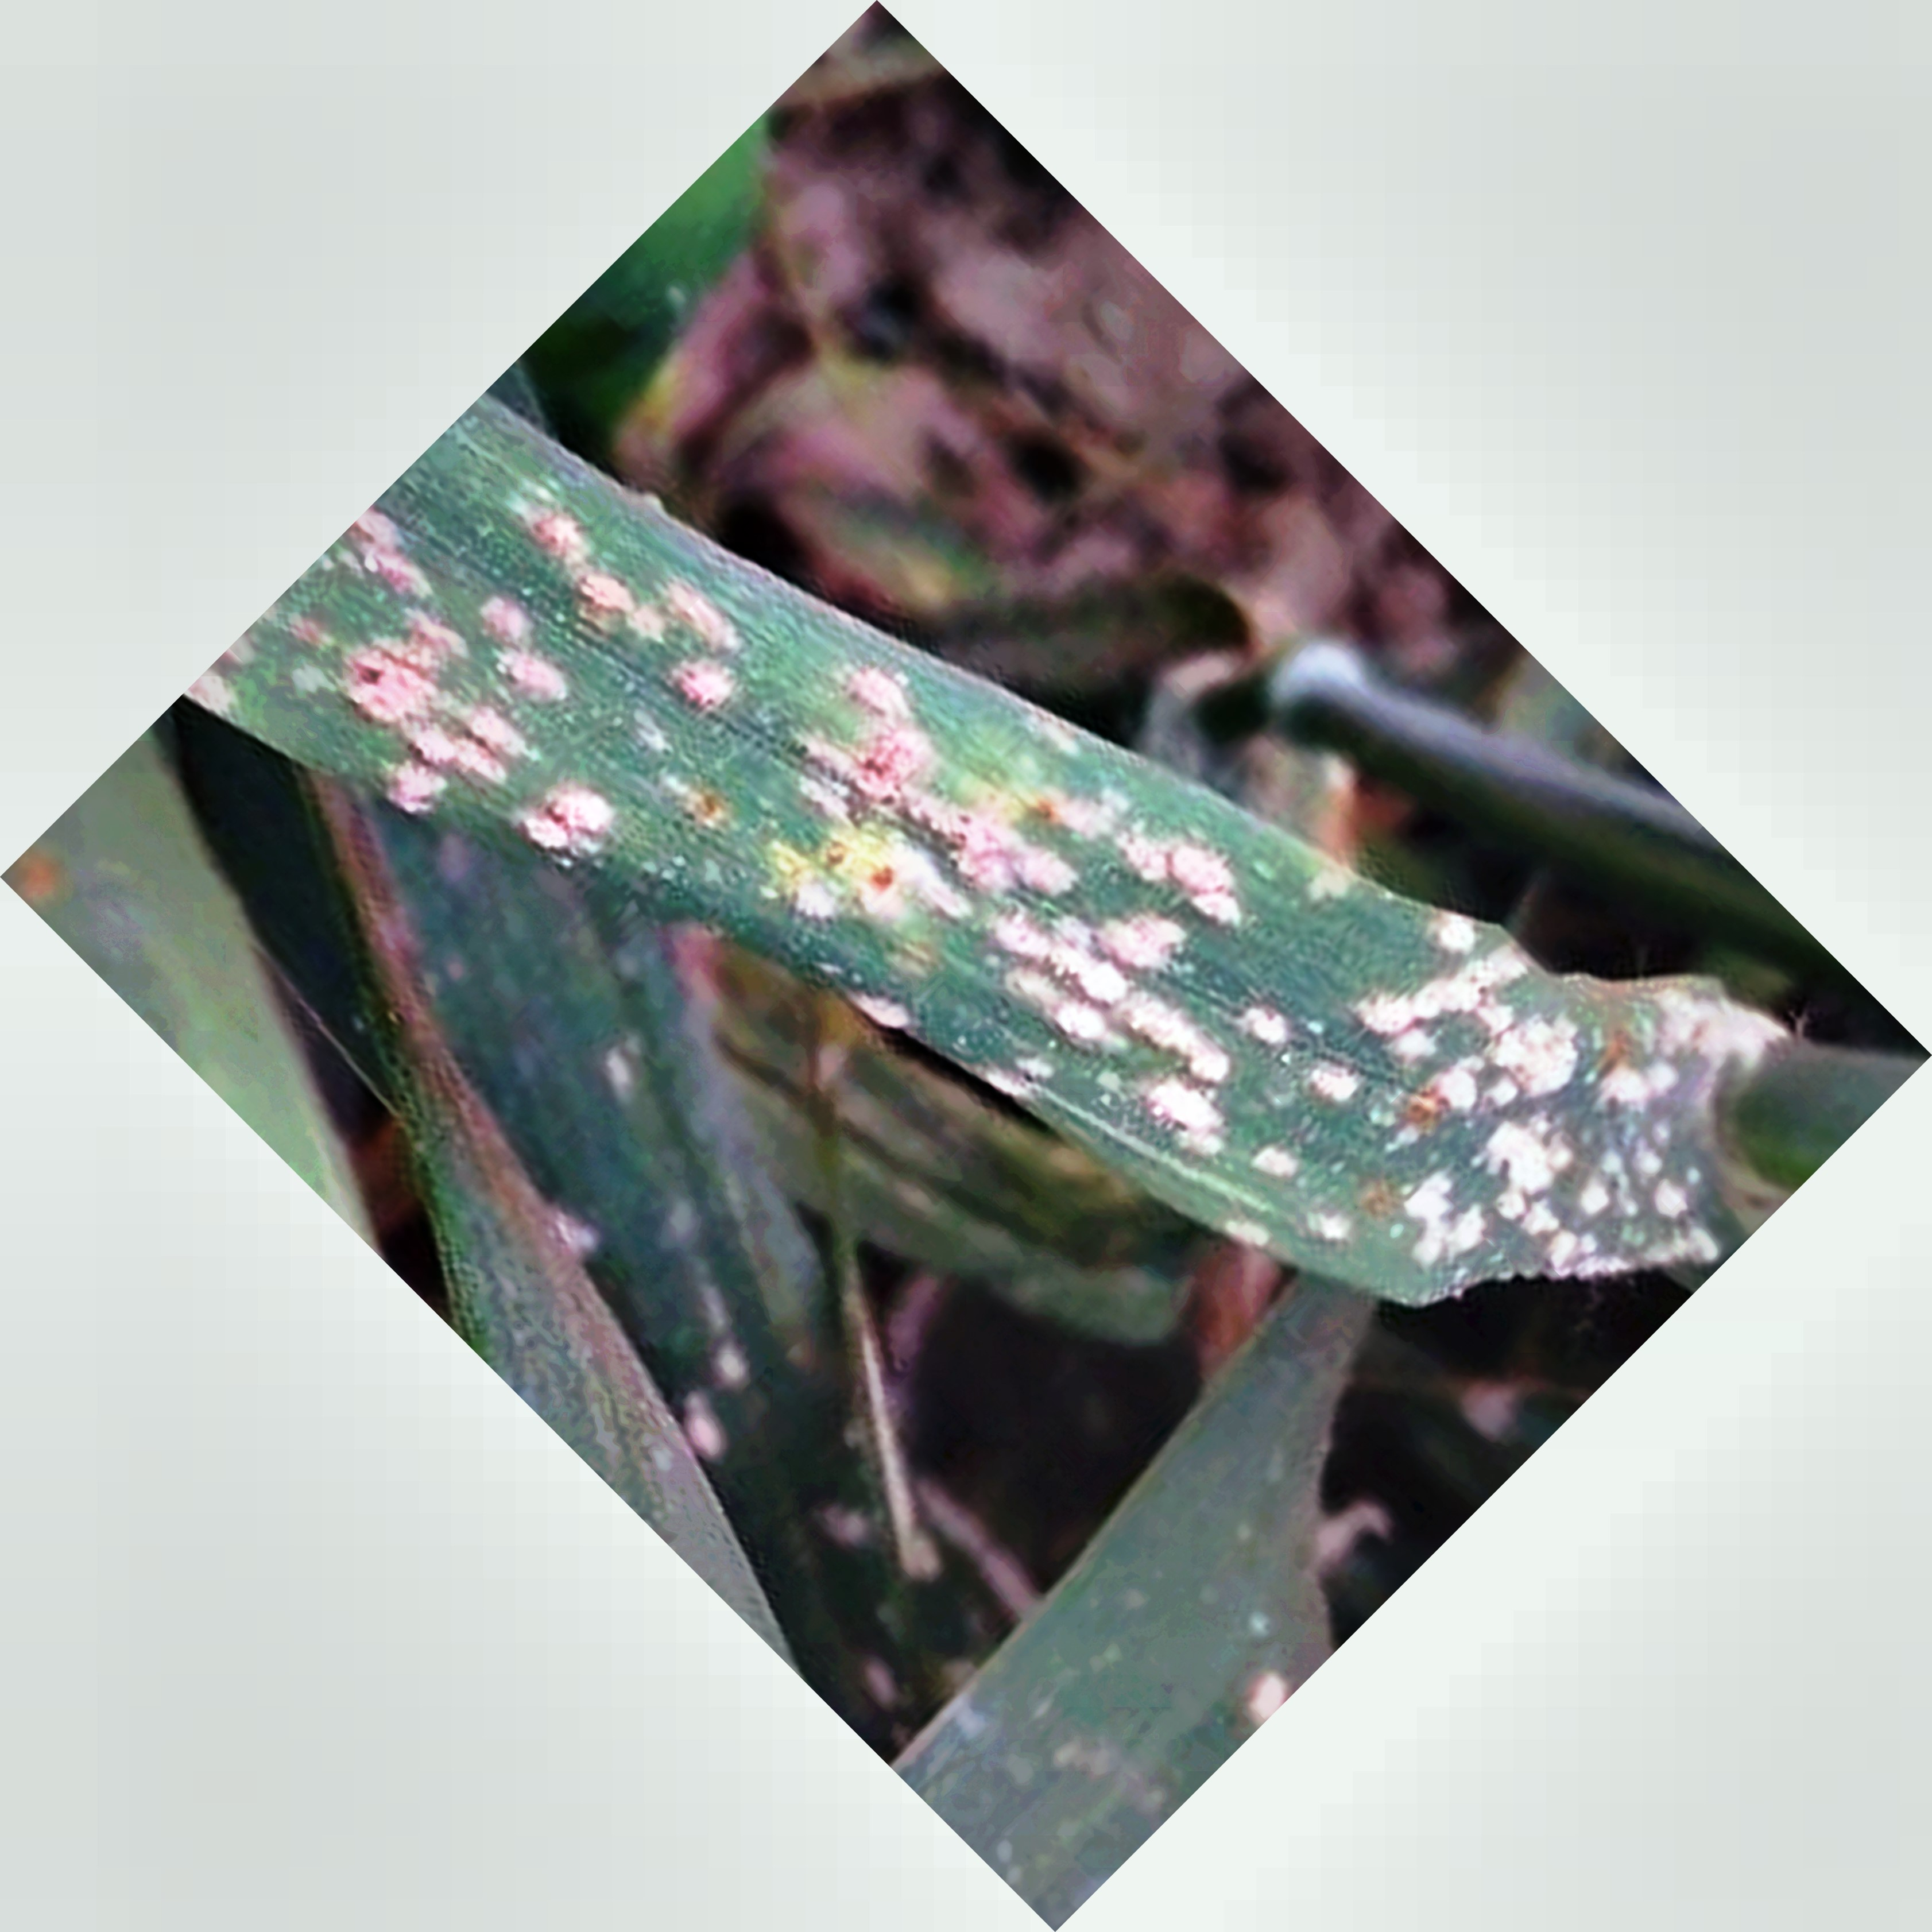Powdery Mildew: (372, 518, 1614, 1304)
